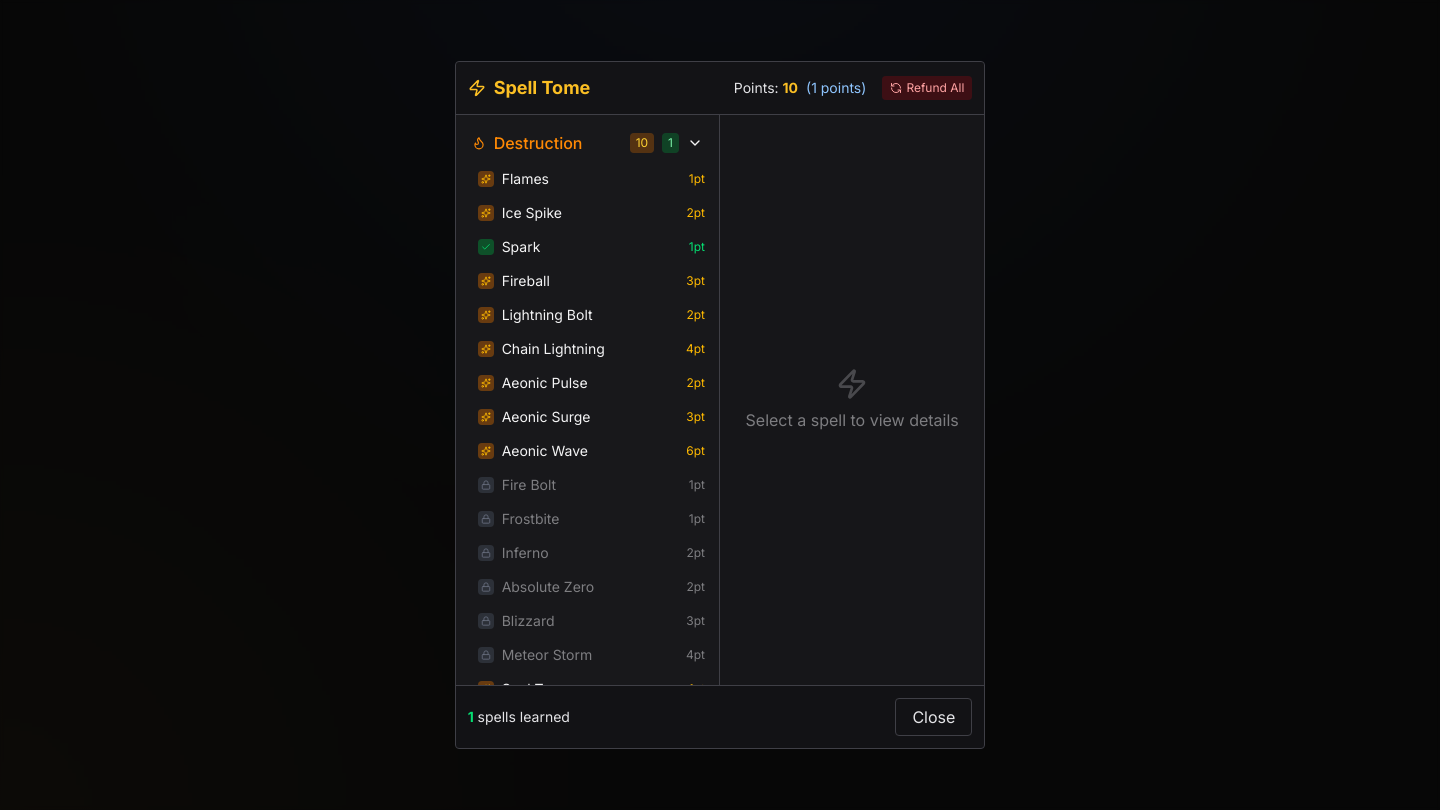
Test: SpellsModal empowered variant UI › shows empowered variant available and learn button for high-level characters when base learned
Note: Select the learned spell first
Click the text "Spark". click: x=521, y=247
box: [502,237,540,257]
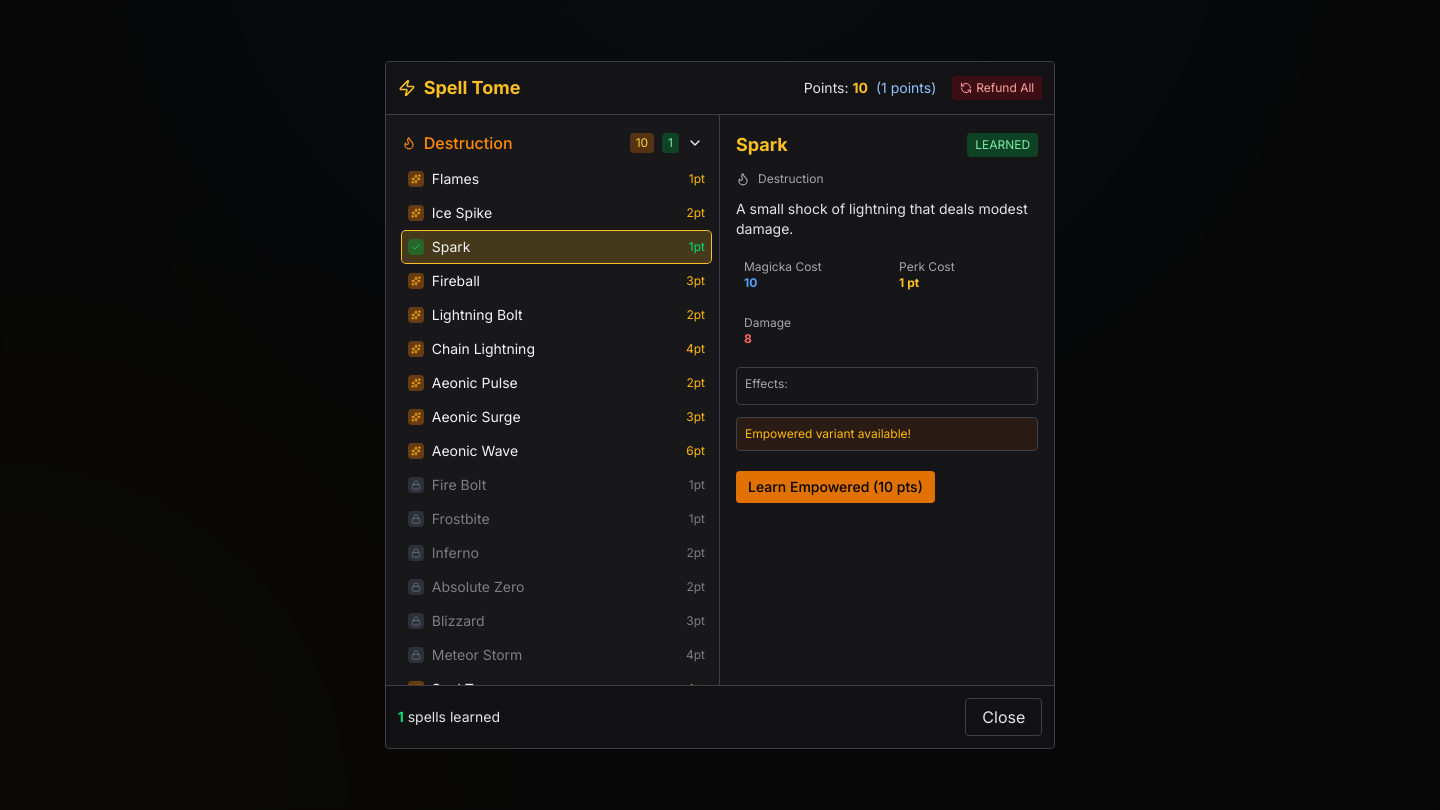
Result: the text "Empowered variant available!" is shown at [745,426,911,441]
Result: the button "Learn Empowered (10 pts)" is shown at [736,471,935,503]
